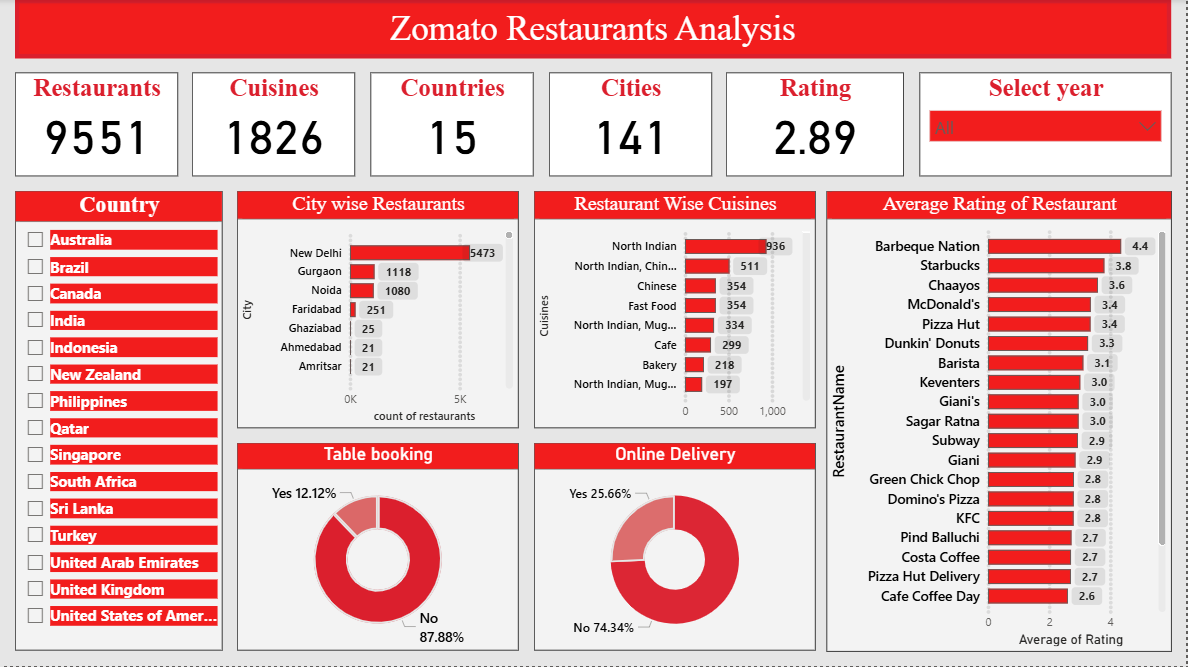

This screenshot's page, from the dashboard's own definition file:
{"tool":"powerbi","page":{"name":"Restaurant Analysis","canvas":[1280,720],"ordinal":0},"visuals":[{"type":"card","title":"Restaurants","fields":{"Values":["CountNonNull(Sheet1.RestaurantID)"]},"box":[16,80,176,112],"z":0},{"type":"card","title":"Countries","fields":{"Values":["Count(Sheet2.countryID)"]},"box":[400,80,176,112],"z":1000},{"type":"card","title":"Cuisines","fields":{"Values":["Count(Sheet1.Cuisines)"]},"box":[208,80,176,112],"z":2000},{"type":"card","title":"Cities","fields":{"Values":["Count(Sheet1.City)"]},"box":[592,80,176,112],"z":3000},{"type":"card","title":"Rating","fields":{"Values":["Avg(Sheet1.Rating)"]},"box":[784,80,192,112],"z":5000},{"type":"slicer","title":"Country","fields":{"Values":["Sheet2.country name"]},"box":[16,208,224,496],"z":6000},{"type":"clusteredBarChart","title":"City wise Restaurants","fields":{"Y":["CountNonNull(Sheet1.RestaurantName)"],"Category":["Sheet1.City"]},"box":[256,208,304,256],"z":7000},{"type":"barChart","title":"Average Rating of Restaurant ","fields":{"Category":["Sheet1.RestaurantName"],"Y":["Avg(Sheet1.Rating)"]},"box":[892.2,207.3,372.4,497.1],"z":8000},{"type":"donutChart","title":"Table booking","fields":{"Category":["Sheet1.Has_Table_booking"],"Y":["CountNonNull(Sheet1.RestaurantName)"]},"box":[256,480,304,224],"z":9000},{"type":"donutChart","title":"Online Delivery","fields":{"Category":["Sheet1.Has_Online_delivery"],"Y":["CountNonNull(Sheet1.RestaurantName)"]},"box":[576,480,304,224],"z":10000},{"type":"barChart","title":"Restaurant Wise Cuisines","fields":{"Category":["Sheet1.Cuisines"],"Y":["CountNonNull(Sheet1.RestaurantID)"]},"box":[576,208,304,256],"z":11000},{"type":"slicer","title":"Select year ","fields":{"Values":["Sheet1.Year"]},"box":[992,80,272,112],"z":12000},{"type":"textbox","box":[16,0,1248,64],"z":13000}]}

Visuals, with their boxes in screenshot pixels (x1, y1, x2, y2), scaled from the page's 1280x720 canvas onto the 1188x667 screenshot:
"Restaurants" card: <region>15, 74, 178, 178</region>
"Countries" card: <region>371, 74, 535, 178</region>
"Cuisines" card: <region>193, 74, 356, 178</region>
"Cities" card: <region>549, 74, 713, 178</region>
"Rating" card: <region>728, 74, 906, 178</region>
"Country" slicer: <region>15, 193, 223, 652</region>
"City wise Restaurants" clusteredBarChart: <region>238, 193, 520, 430</region>
"Average Rating of Restaurant " barChart: <region>828, 192, 1174, 653</region>
"Table booking" donutChart: <region>238, 445, 520, 652</region>
"Online Delivery" donutChart: <region>535, 445, 817, 652</region>
"Restaurant Wise Cuisines" barChart: <region>535, 193, 817, 430</region>
"Select year " slicer: <region>921, 74, 1173, 178</region>
textbox: <region>15, 0, 1173, 59</region>
